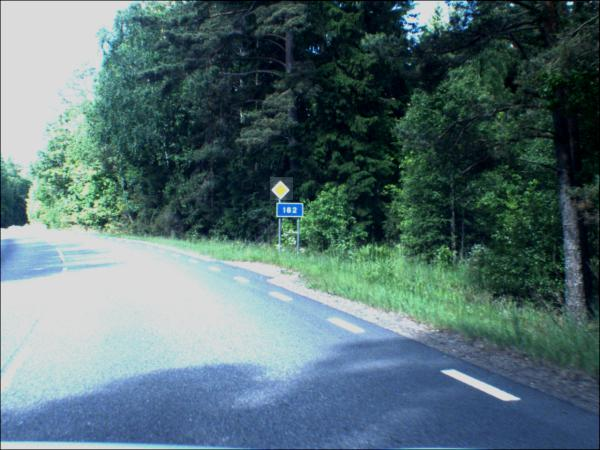PRIORITY_ROAD: (271, 178, 295, 202)
